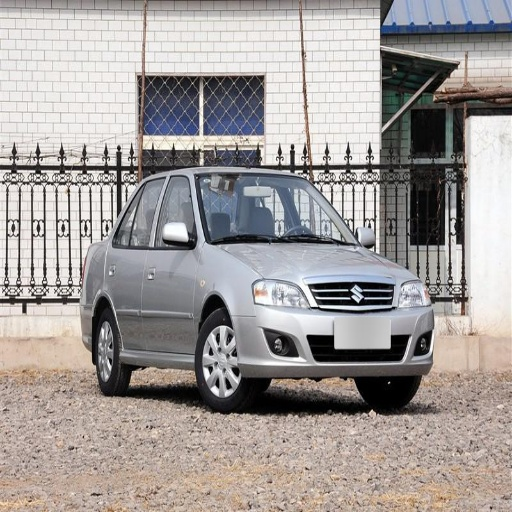front_bumper: (236, 282, 433, 375)
front_right_door: (142, 176, 197, 351)
front_right_light: (253, 278, 311, 309)
hood: (219, 245, 409, 284)
